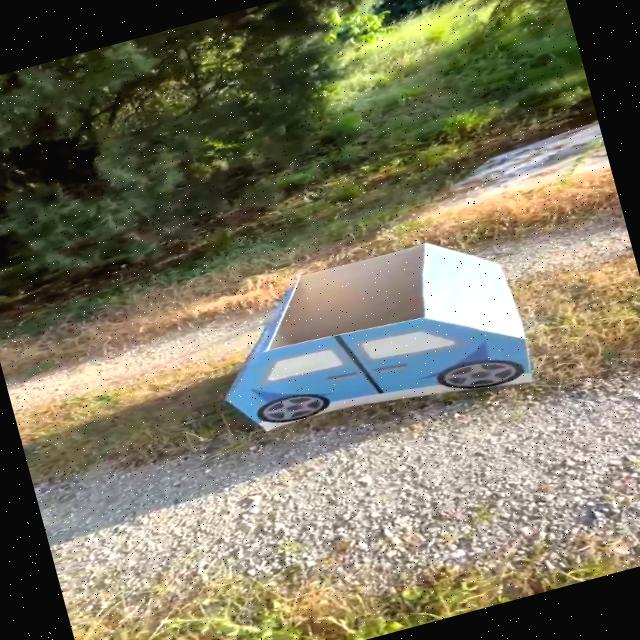blue_car: (178, 203, 594, 472)
